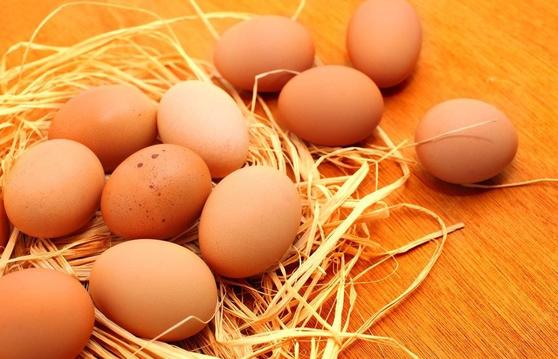egg: (95, 237, 220, 342), (202, 164, 299, 281), (417, 97, 520, 190), (159, 78, 253, 170), (277, 66, 386, 145)
